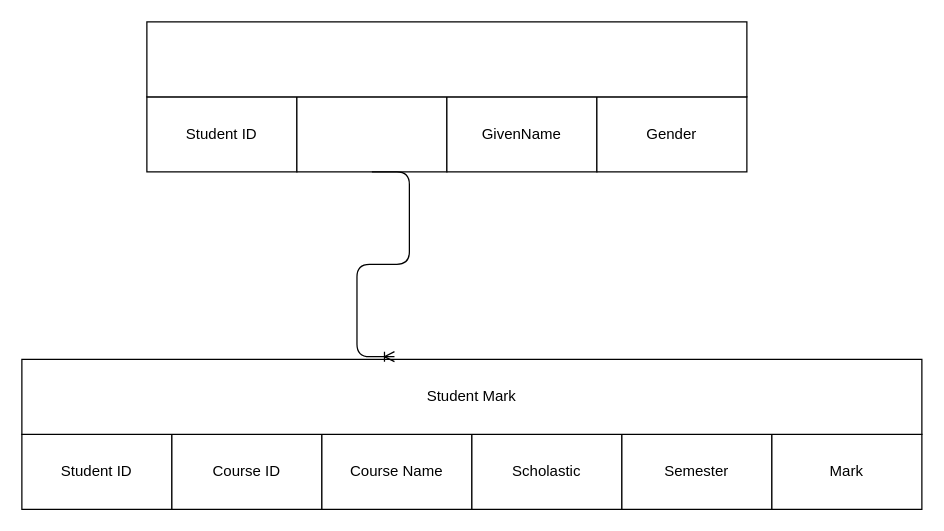
This 944x531 diagram has some shape labels left out. Each missing label, with the centre of its shape:
"Student" belongs at point 446,59.
"SurName" belongs at point 371,134.
